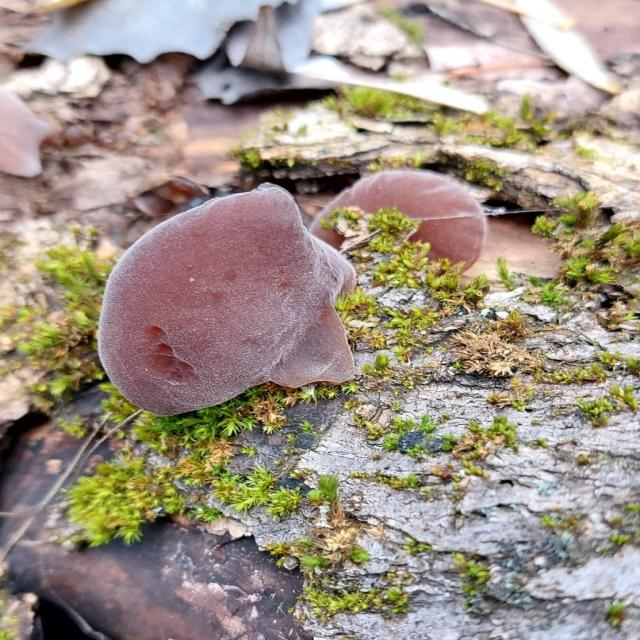Matang: (76, 182, 396, 420), (307, 165, 494, 283)
